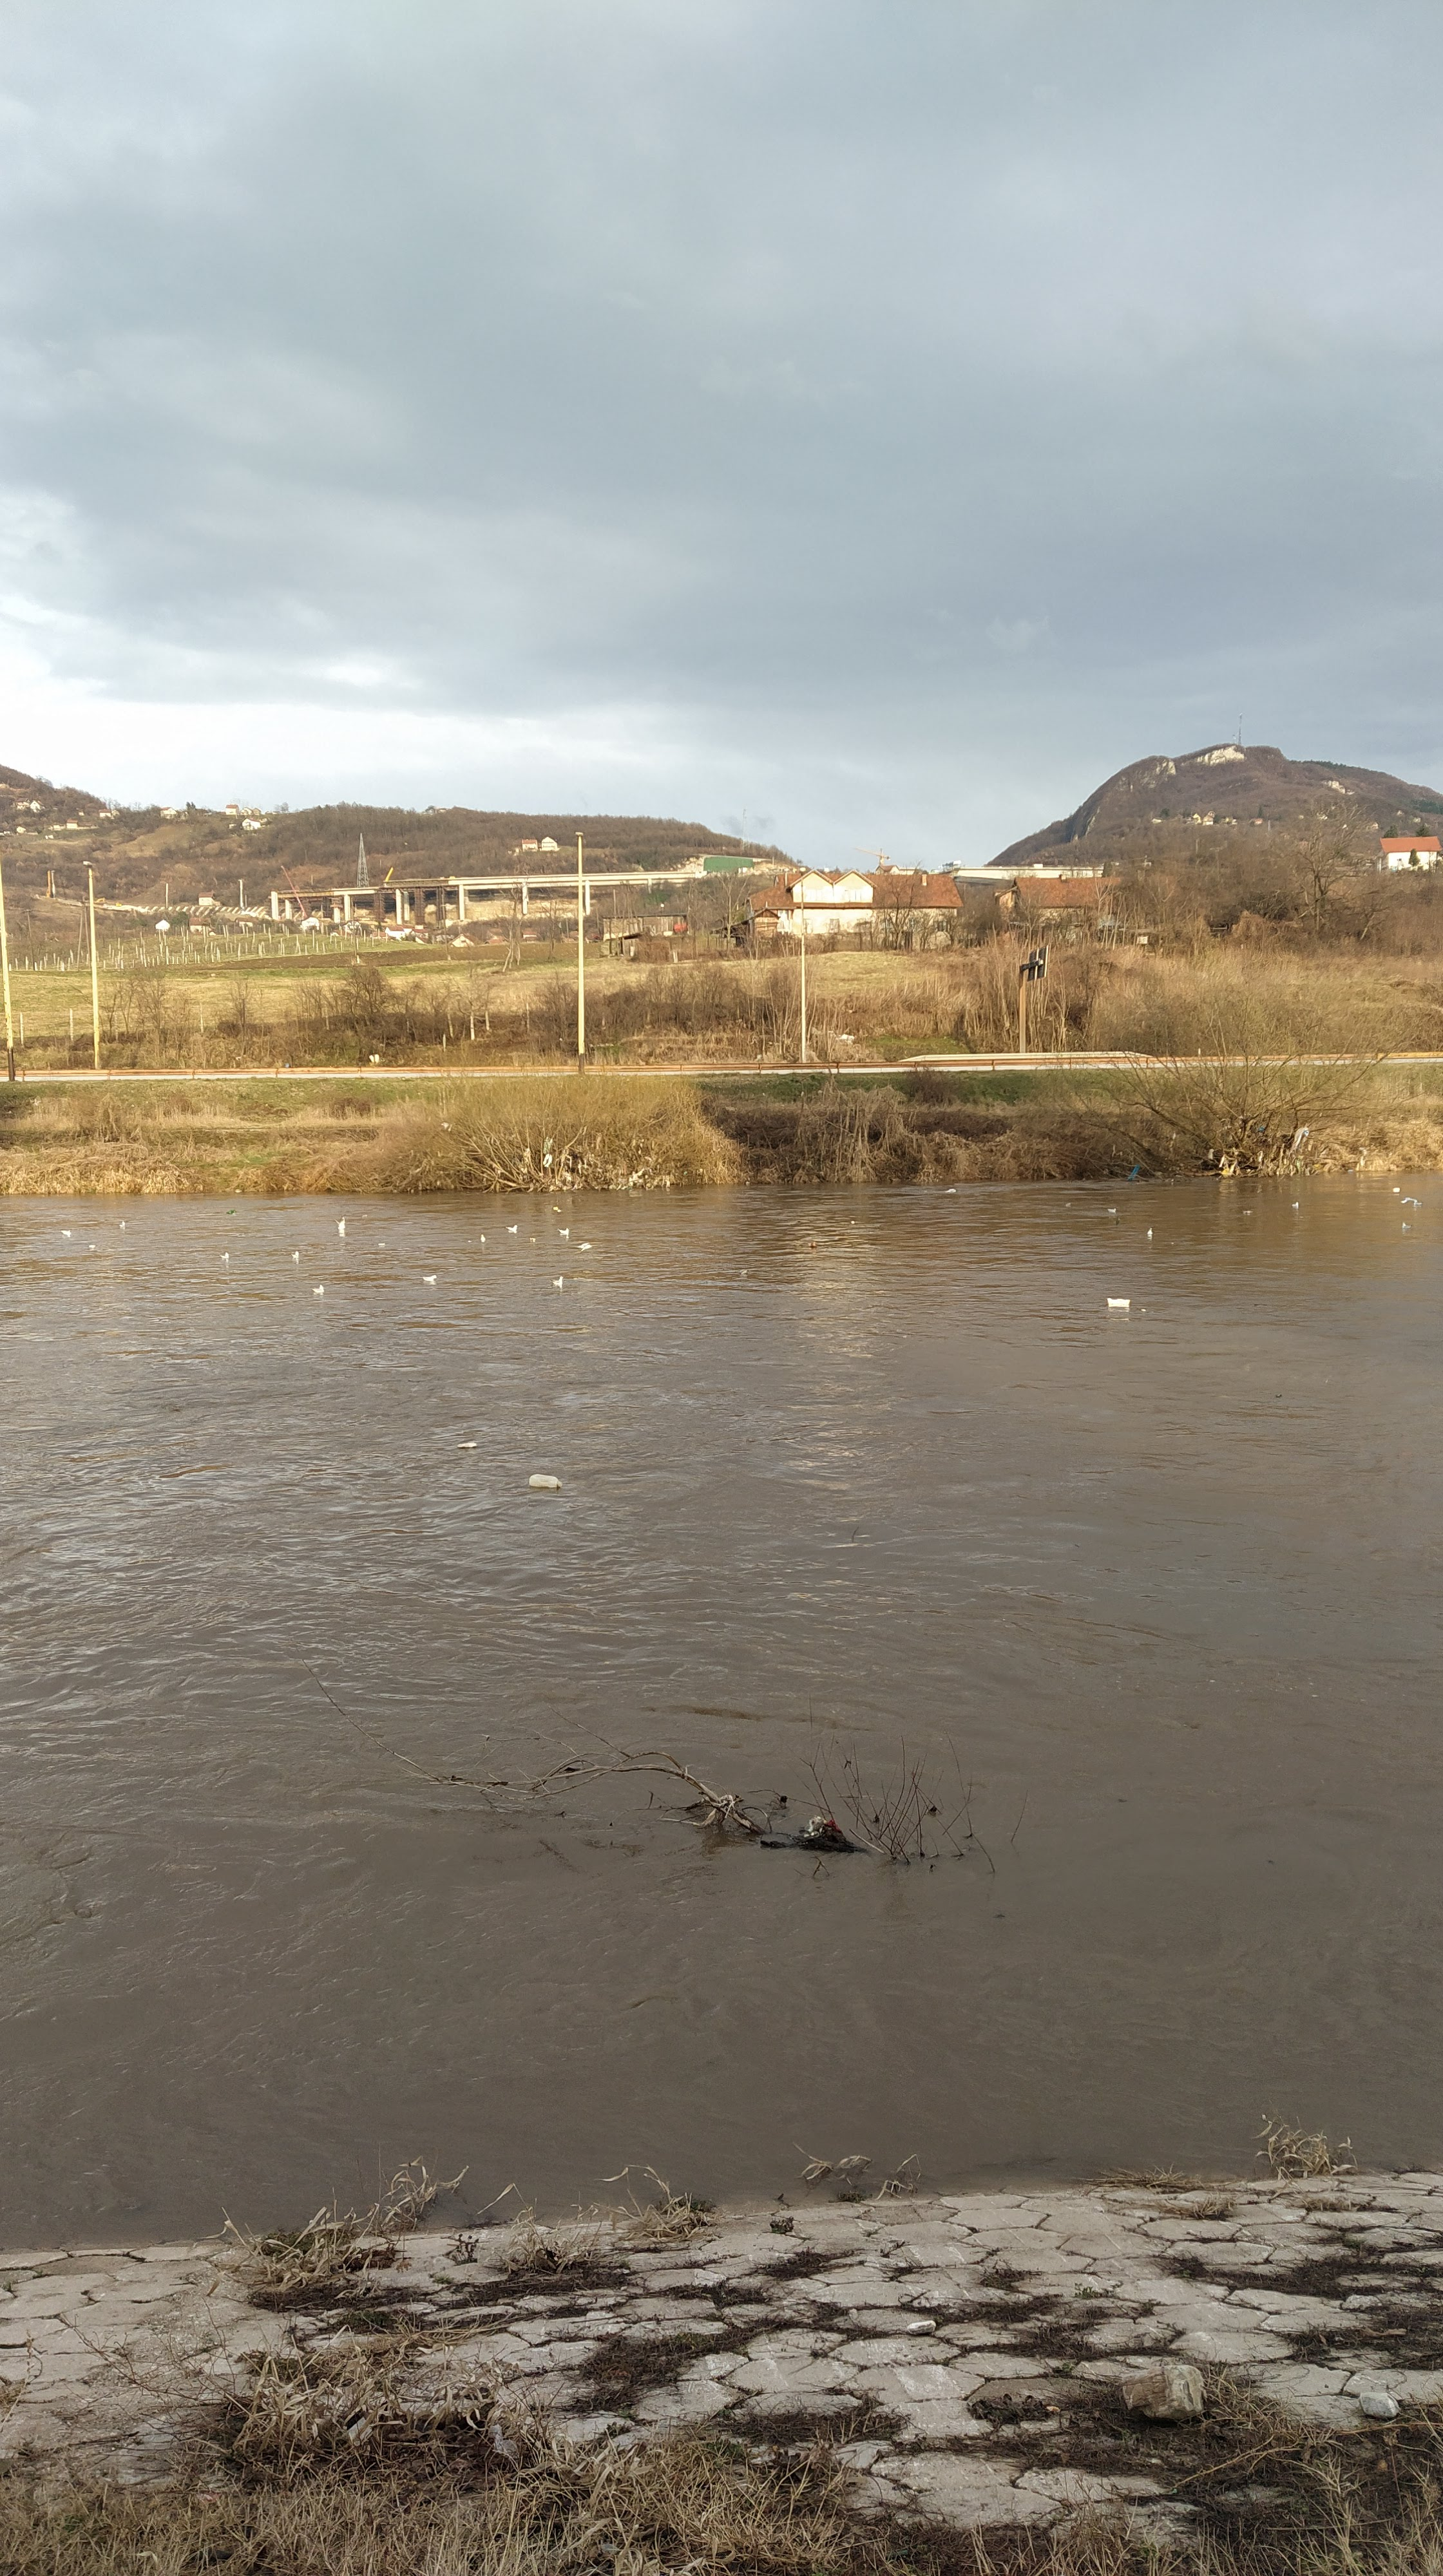Plastic Bottle: (529, 1472, 563, 1486), (457, 1442, 476, 1447), (1392, 1187, 1401, 1192), (809, 1240, 816, 1246), (945, 1189, 956, 1192), (1241, 1210, 1252, 1214), (227, 1210, 234, 1214), (740, 1270, 747, 1274), (379, 1244, 384, 1246)
